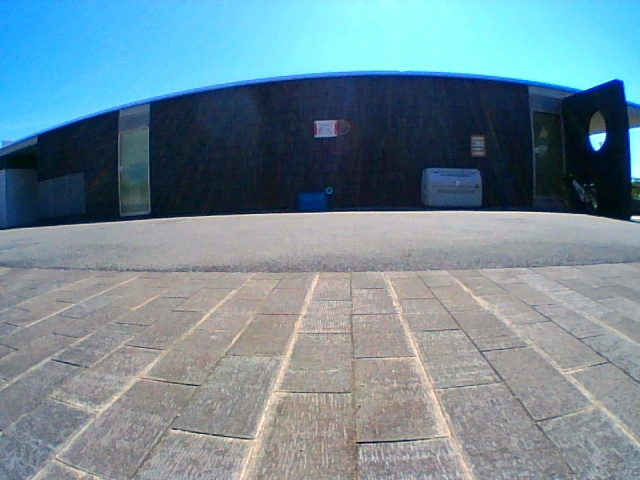blue_box: (298, 193, 326, 211)
